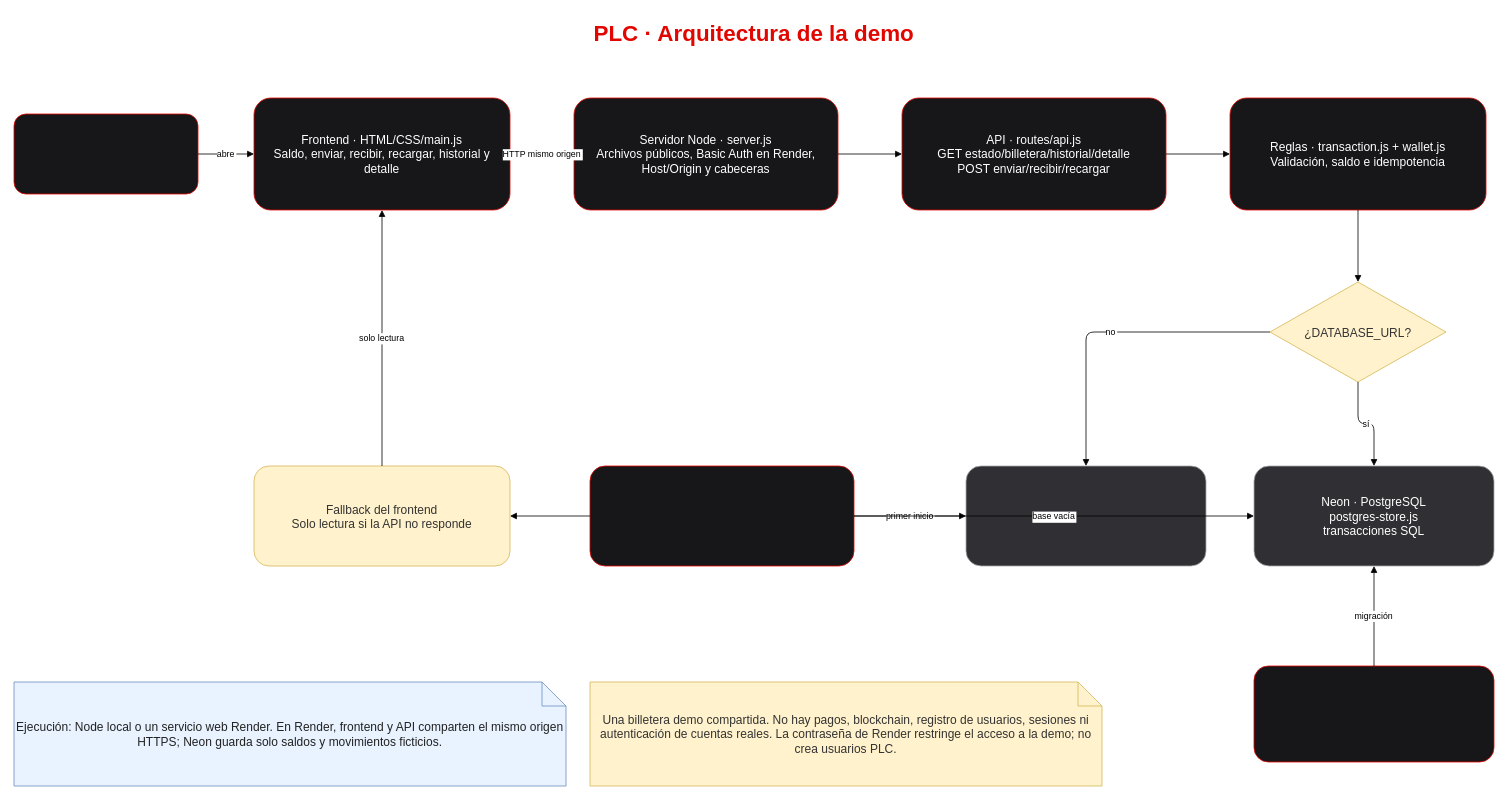
The diagram is 1508 pixels wide and 800 high, and some of its shapes have lost their labels. The shapes that lost their labels are listed below. From the top down, each one's centre as x and y in pixels, then its label:
pixel 105 153: Visitante de la demo Navegador
pixel 721 515: Seed ficticio · data/plc-demo.json Cuenta y movimientos iniciales
pixel 1085 515: Desarrollo local · store.js backend/storage/demo.json cola de escritura
pixel 1373 713: plc_bd/schema.sql + migrate.js Crea tablas antes del arranque en Neon
